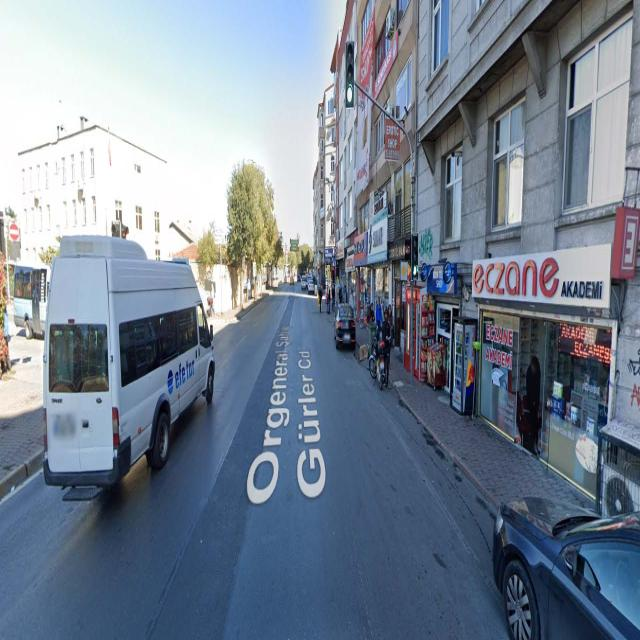yesil: (345, 40, 354, 105), (411, 229, 417, 278)
